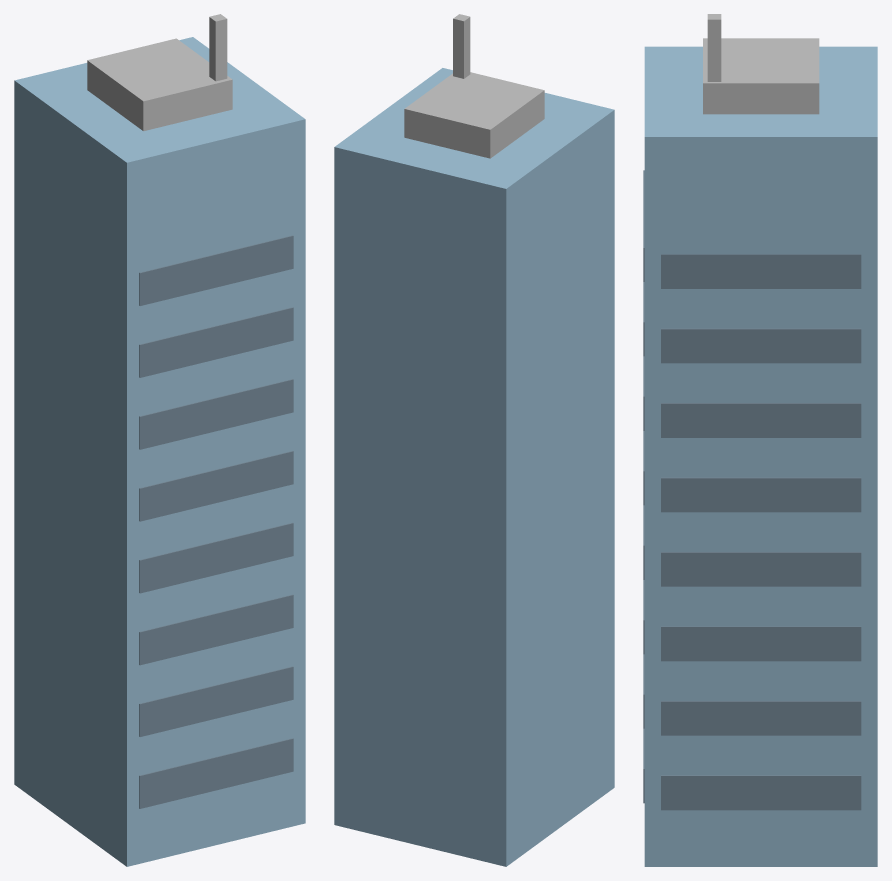
The model's file is building_2.glb.
The picture shows the model from 3 angles, left to right: view 1: azimuth 30°, elevation 25°; view 2: azimuth 150°, elevation 25°; view 3: azimuth 270°, elevation 25°; orthographic projection. The views are drawn at different scales.
Parts seen in each view (by area): view 1: building_2; view 2: building_2; view 3: building_2.
Boxes of the visible parts, box(x1,y1,x2,y2) form: building_2: box(14, 14, 305, 866); building_2: box(334, 14, 614, 866); building_2: box(643, 14, 877, 866).
Bounding box in the file's own units: 3.14 × 13.26 × 3.43.
